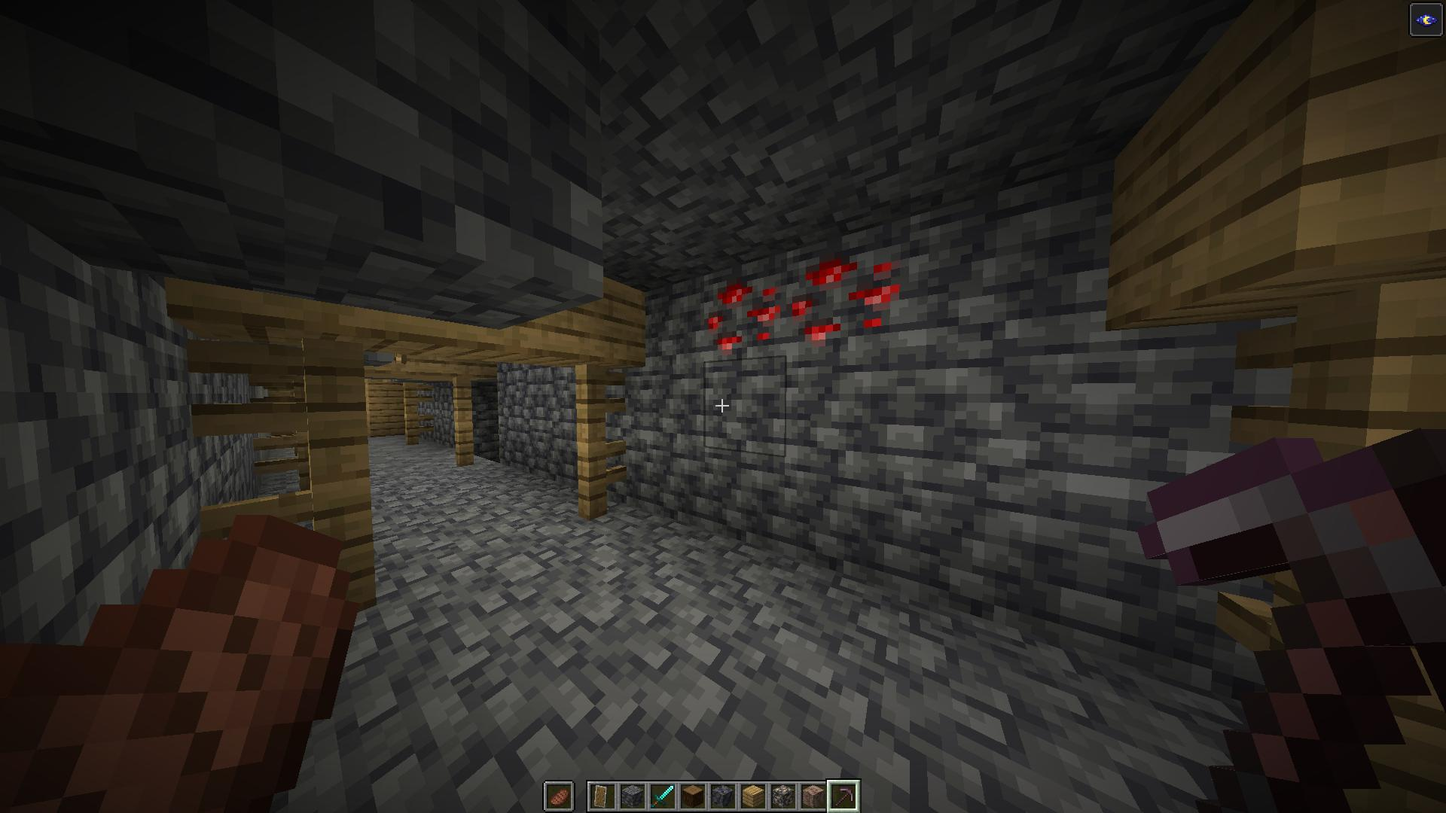redstone ore: (791, 251, 906, 357), (697, 271, 782, 354)
